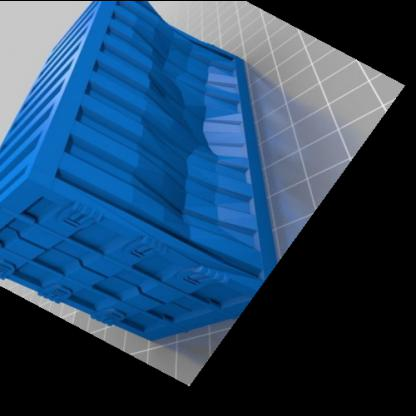Damage: (148, 9, 193, 233)
